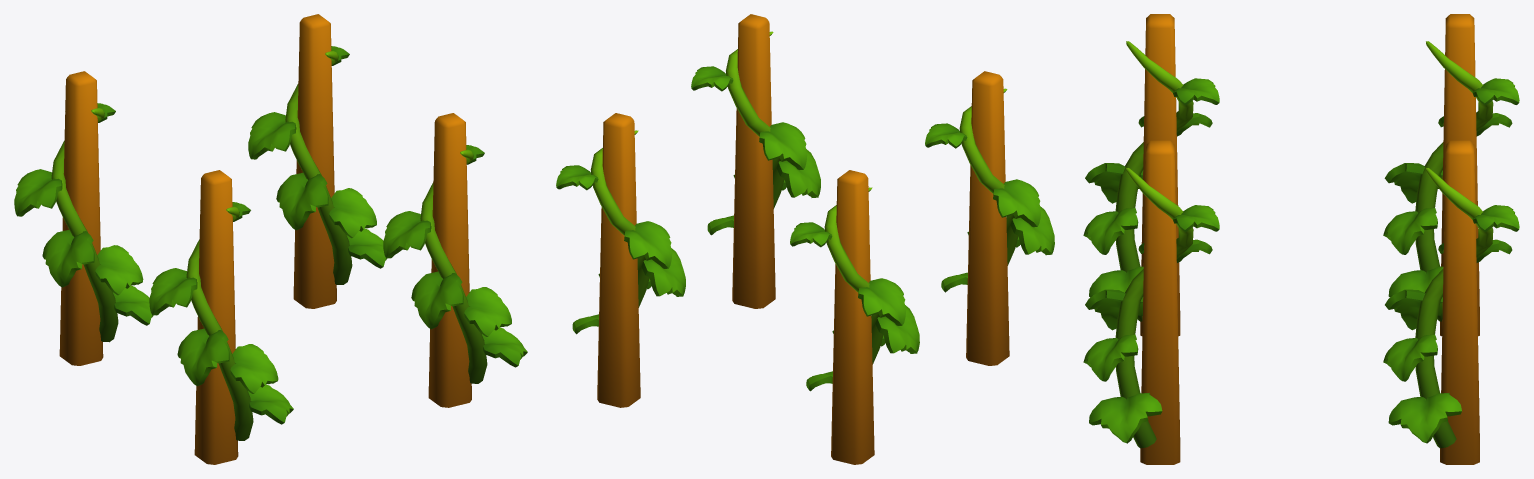
Rendered from Farm_Crop_Grape_Step_01.fbx.
The picture shows the model from 3 angles, left to right: view 1: azimuth 30°, elevation 25°; view 2: azimuth 150°, elevation 25°; view 3: azimuth 270°, elevation 25°; orthographic projection. The views are drawn at different scales.
Visible parts, largest first — view 1: Farm_Crop_Grape_Step_01; view 2: Farm_Crop_Grape_Step_01; view 3: Farm_Crop_Grape_Step_01.
Part boxes in pixels (x1,y1,x2,y2): Farm_Crop_Grape_Step_01: (14, 14, 527, 464); Farm_Crop_Grape_Step_01: (556, 14, 1054, 464); Farm_Crop_Grape_Step_01: (1083, 14, 1519, 464).
Bounding box in the file's own units: 151 × 115 × 146.
